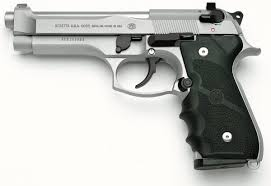gun: (1, 1, 271, 177)
